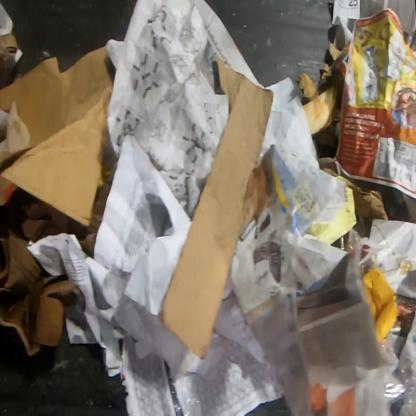cardboard: (158, 53, 275, 364), (0, 153, 120, 357), (0, 46, 117, 227), (322, 168, 389, 223), (0, 33, 20, 91)
soft_plastic: (378, 340, 415, 415)
